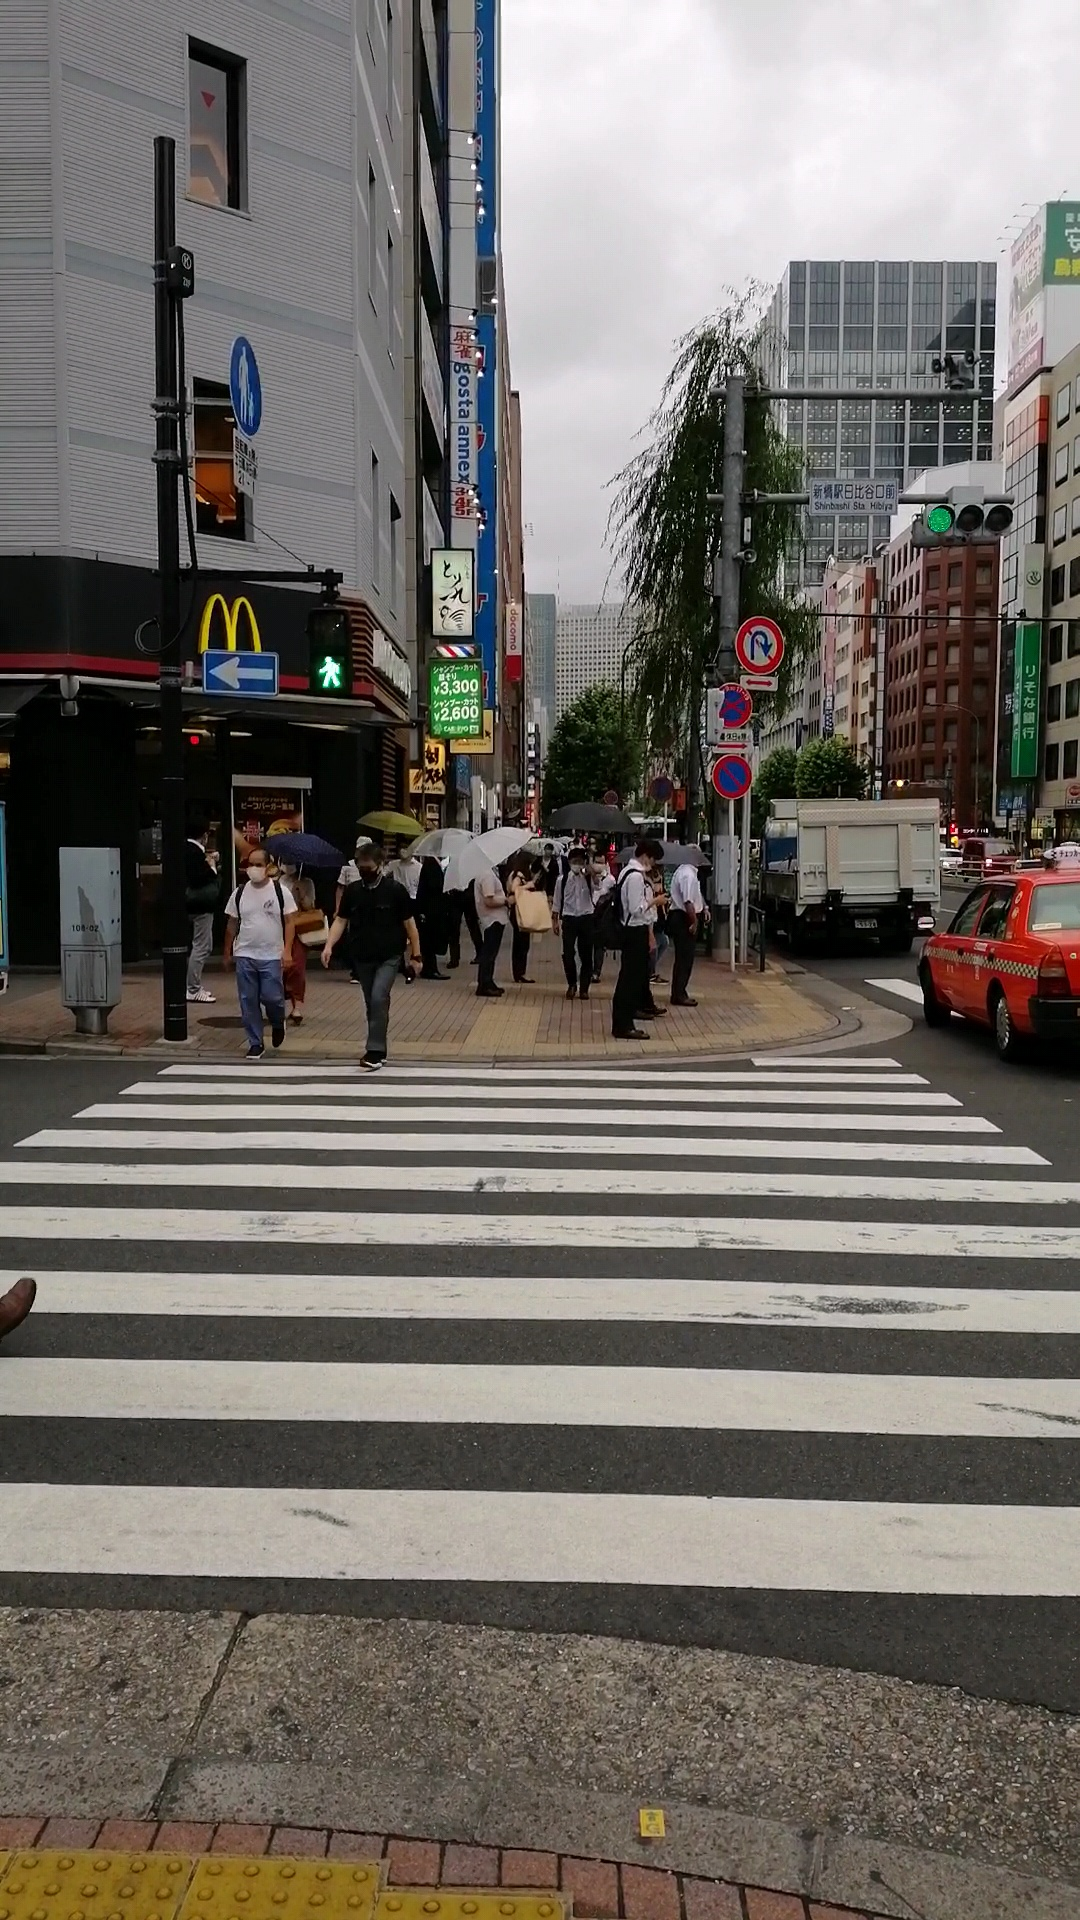green: (305, 609, 355, 696)
